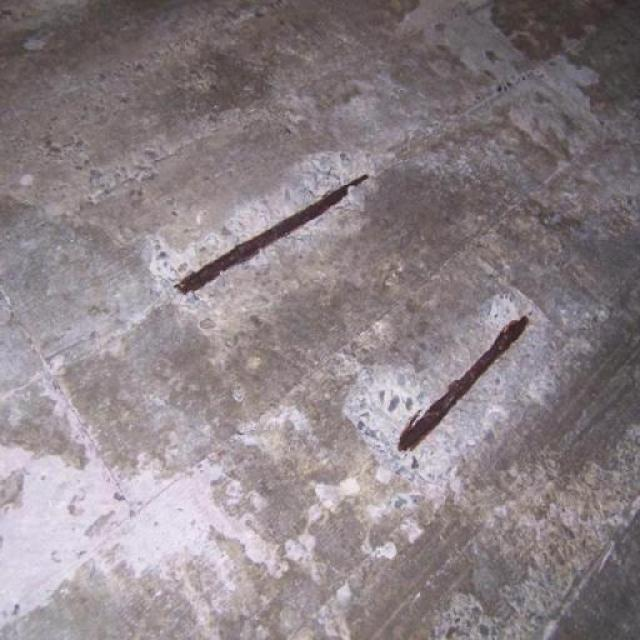D0w0: (340, 278, 558, 495), (145, 154, 376, 344)
